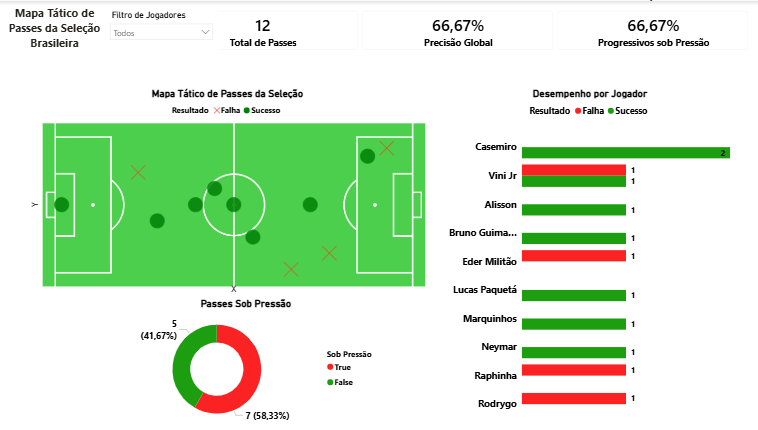

The dashboard page shown, as its layout file describes it:
{"tool":"powerbi","page":{"name":"Mapa Tático","canvas":[1280,720],"ordinal":0},"visuals":[{"type":"cardVisual","fields":{"Data":["CountNonNull(dados_para_powerbi.id)","dados_para_powerbi.Precisão Global","dados_para_powerbi.% Progressivos sob Pressao"]},"box":[267.1,0,1012.9,99.1],"z":0},{"type":"scatterChart","title":"Mapa Tático de Passes da Seleção","fields":{"X":["Sum(dados_para_powerbi.localizacao.0)"],"Y":["Sum(dados_para_powerbi.localizacao.1)"],"Category":["dados_para_powerbi.id"],"Series":["dados_para_powerbi.resultado"]},"box":[48.7,144.5,673.6,352.8],"z":1000},{"type":"donutChart","title":"Passes Sob Pressão","fields":{"Category":["dados_para_powerbi.sob_pressao"],"Y":["CountNonNull(dados_para_powerbi.id)"]},"box":[178.1,497.2,477.1,223.4],"z":2000},{"type":"clusteredBarChart","title":"Desempenho por Jogador","fields":{"Category":["dados_para_powerbi.jogador"],"Series":["dados_para_powerbi.resultado"],"Y":["CountNonNull(dados_para_powerbi.id)"]},"box":[739.1,144.5,510.7,576.2],"z":3000},{"type":"textbox","box":[11.8,1.7,166.3,97.4],"z":3001},{"type":"slicer","fields":{"Values":["dados_para_powerbi.jogador"]},"box":[178.1,10.1,193.2,89],"z":3002}]}

Visuals, with their boxes in screenshot pixels (x1, y1, x2, y2), scaled from the page's 1280x720 canvas onto the 758x430 screenshot:
cardVisual - CountNonNull(dados_para_powerbi.id) x dados_para_powerbi.Precisão Global: l=158, t=0, r=757, b=59
"Mapa Tático de Passes da Seleção" scatterChart: l=29, t=86, r=428, b=297
"Passes Sob Pressão" donutChart: l=105, t=297, r=388, b=429
"Desempenho por Jogador" clusteredBarChart: l=438, t=86, r=740, b=429
textbox: l=7, t=1, r=105, b=59
slicer - dados_para_powerbi.jogador: l=105, t=6, r=220, b=59
